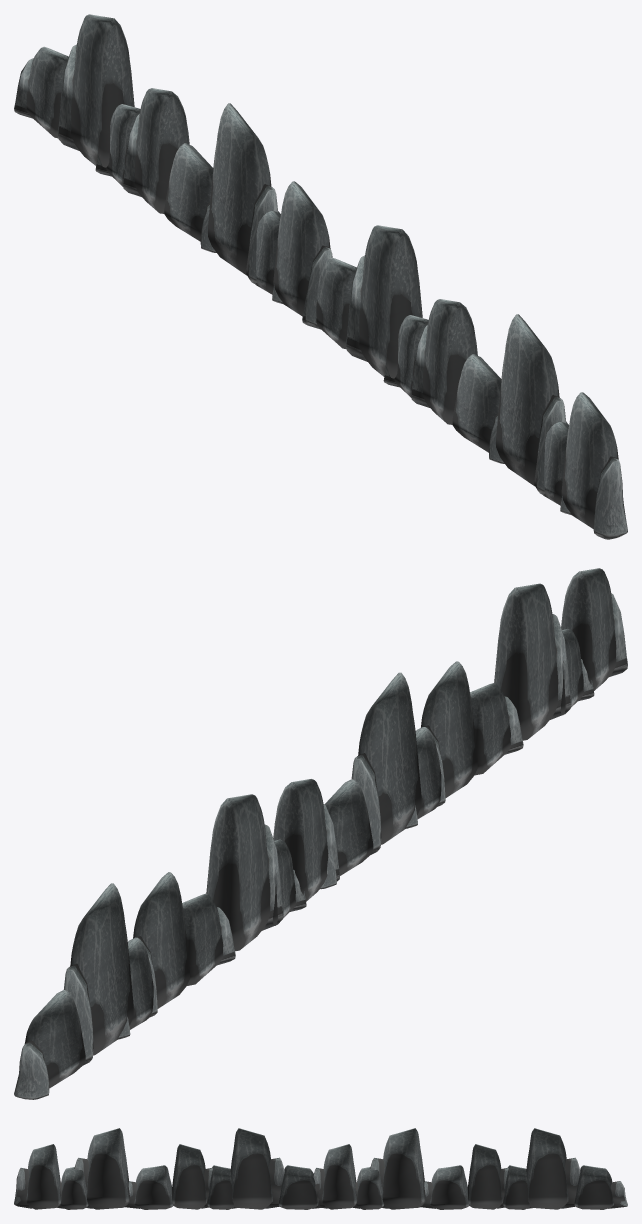
The model's file is recks.fbx.
3 views of the same model, one above another, from view 1: azimuth 30°, elevation 25°; view 2: azimuth 150°, elevation 25°; view 3: azimuth 270°, elevation 25° (orthographic). The views are drawn at different scales.
Visible parts, largest first — view 1: recks; view 2: recks; view 3: recks.
Part boxes in pixels (x1,y1,x2,y2): recks: (14,14,627,539); recks: (14,568,627,1099); recks: (14,1128,627,1209).
Bounding box in the file's own units: 110 × 429 × 2979.
Materials: 1 (1 with a texture image).
